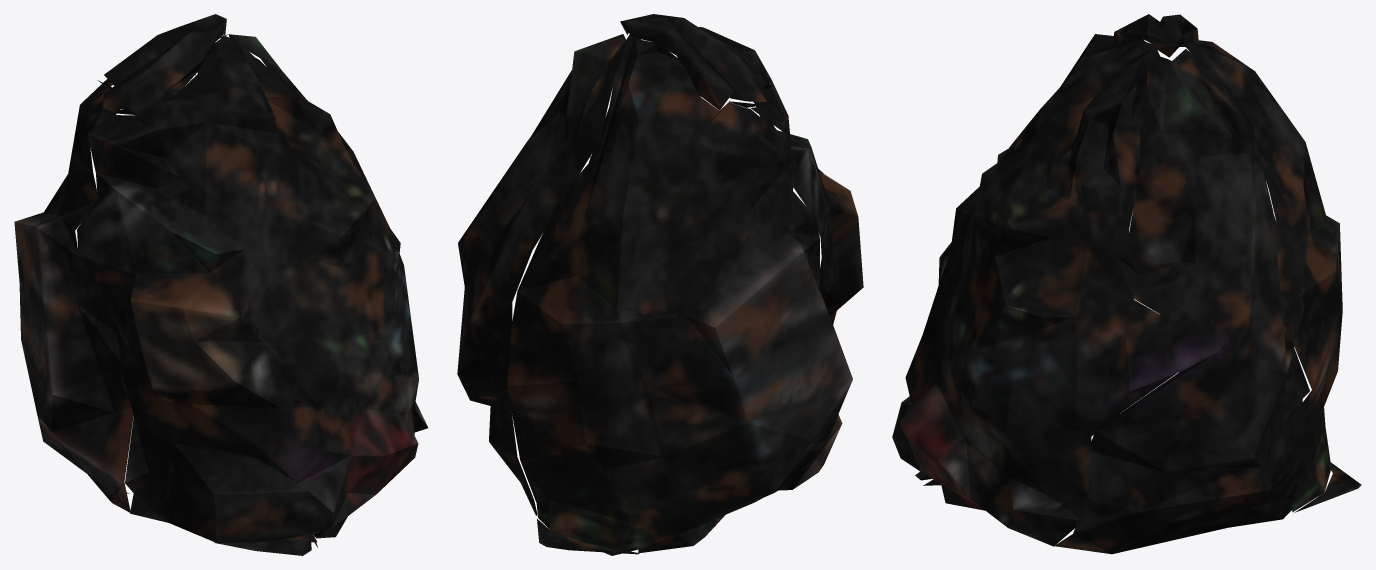
File: prop_trashbag.glb
3 renders of one model, left to right at view 1: azimuth 30°, elevation 25°; view 2: azimuth 150°, elevation 25°; view 3: azimuth 270°, elevation 25°, orthographic. The views are drawn at different scales.
Visible parts, largest first — view 1: hull; view 2: hull; view 3: hull.
Part boxes in pixels (x1,y1,x2,y2): hull: [14, 14, 428, 555]; hull: [457, 14, 863, 555]; hull: [892, 14, 1361, 554].
Bounding box in the file's own units: 1.78 × 2.2 × 2.
Materials: 1 (1 with a texture image).
